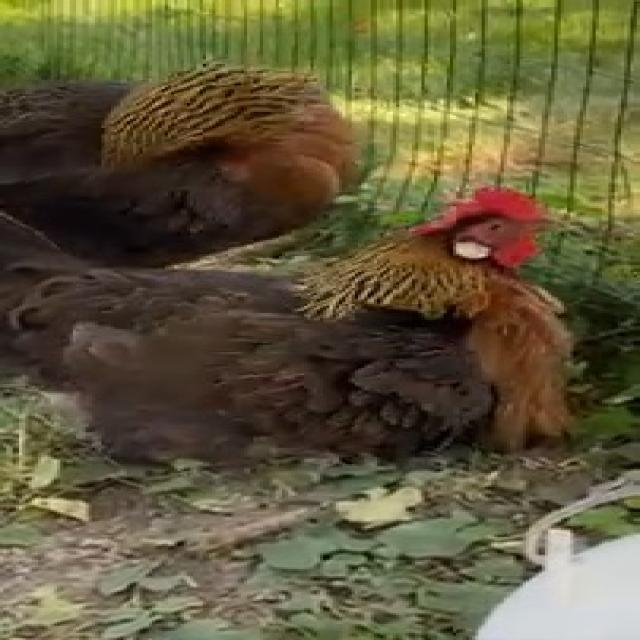self preening: (0, 38, 358, 278)
